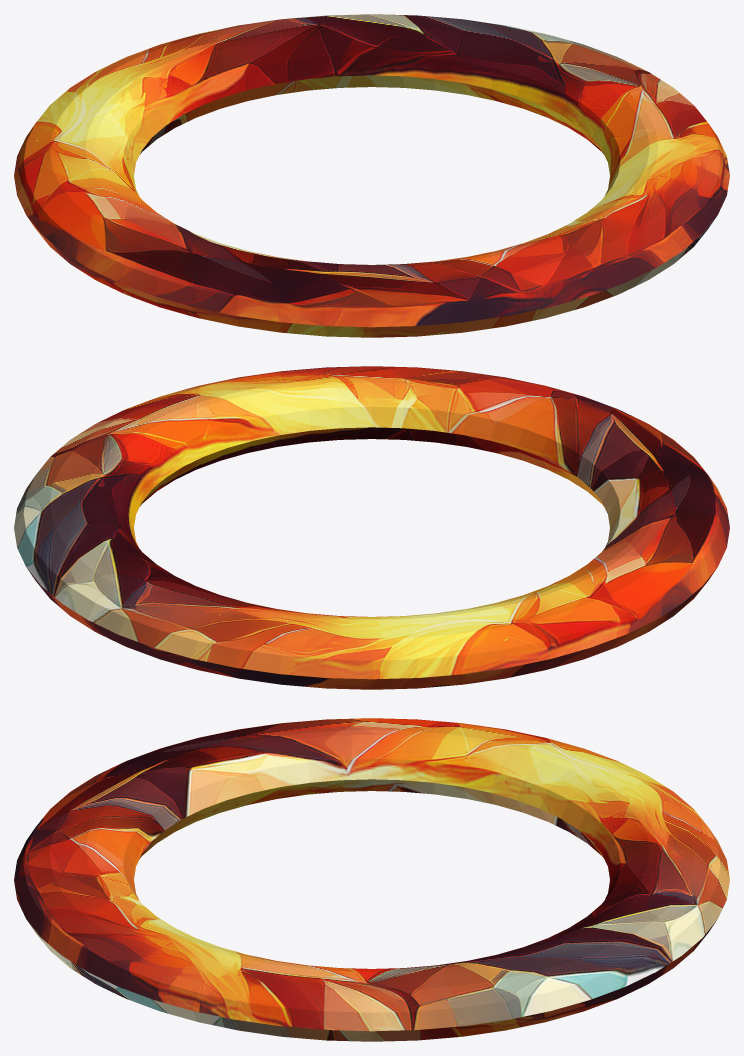
The model's file is ringoffire.fbx.
3 renders of one model, top to bottom at view 1: azimuth 30°, elevation 25°; view 2: azimuth 150°, elevation 25°; view 3: azimuth 270°, elevation 25°, orthographic.
Parts seen in each view (by area): view 1: Torus; view 2: Torus; view 3: Torus.
Part boxes in pixels (box(x1,y1,x2,y2)): Torus: box(14, 14, 729, 337); Torus: box(14, 366, 729, 689); Torus: box(14, 718, 729, 1041).
Size of the model in its own units: 250 by 22.45 by 250.
